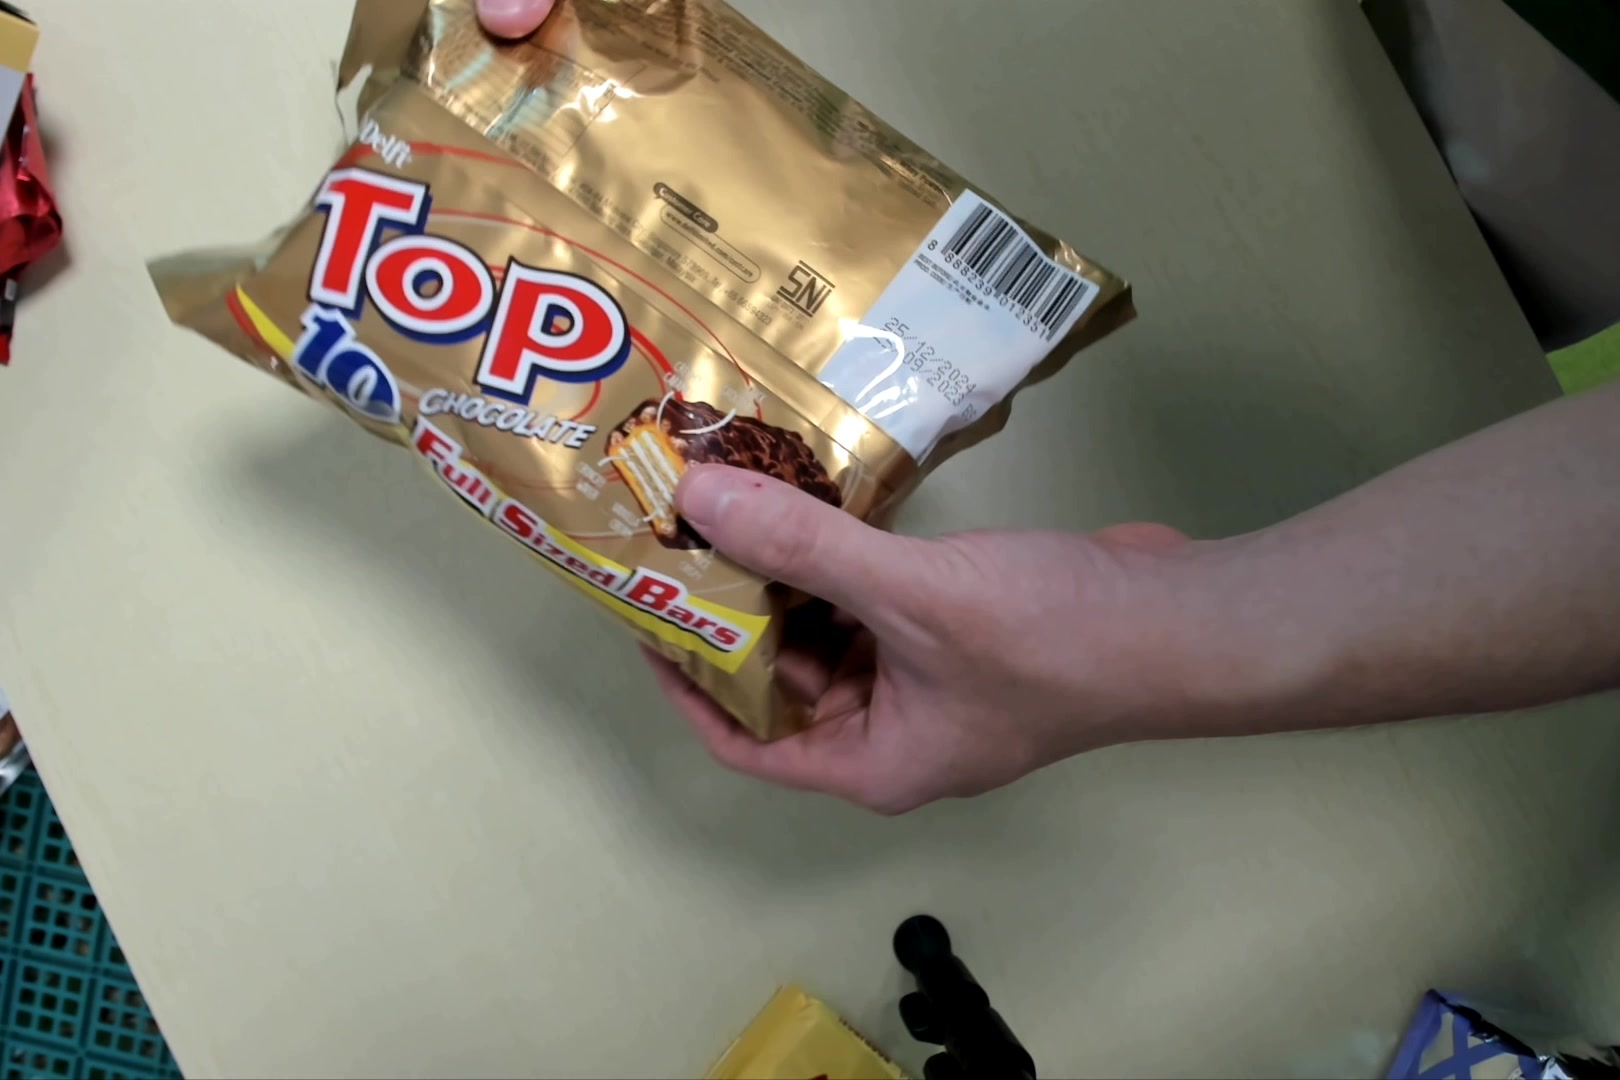SweetsChocolatesOthers_100-199g_NonHalal_NonHealthy: (133, 1, 1134, 730)
